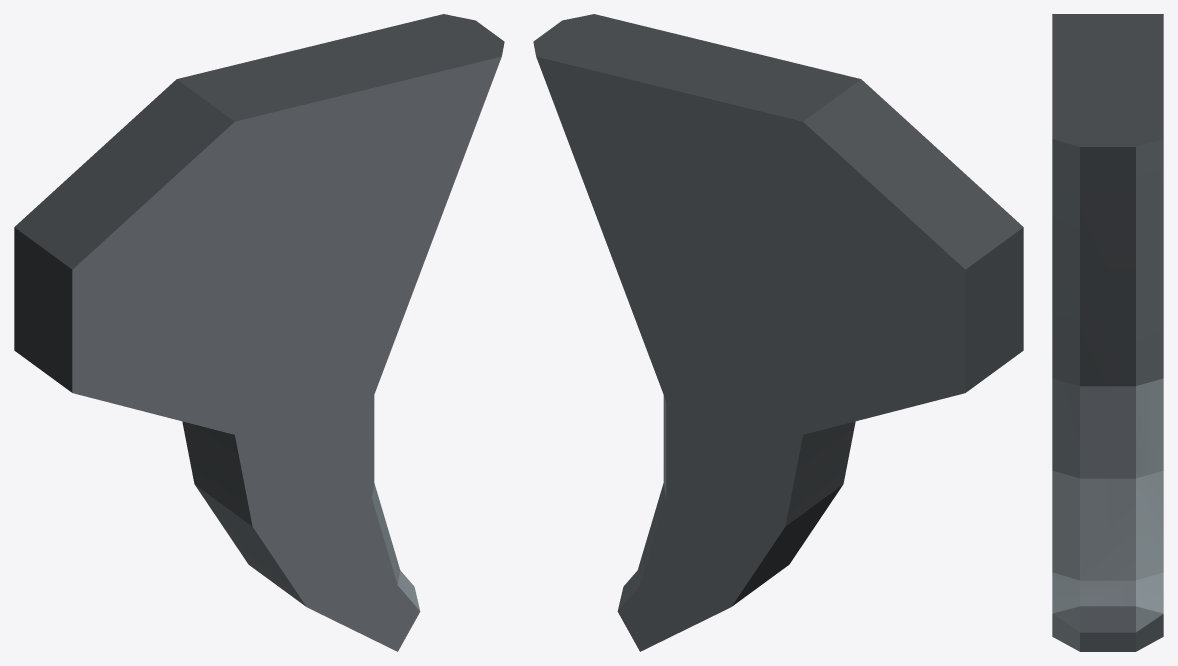
File: k-trigger-01.glb
The picture shows the model from 3 angles, left to right: view 1: azimuth 30°, elevation 25°; view 2: azimuth 150°, elevation 25°; view 3: azimuth 270°, elevation 25°; orthographic projection. The views are drawn at different scales.
Visible parts, largest first — view 1: kit; view 2: kit; view 3: kit.
Part boxes in pixels (x1=…): kit: x1=14, y1=14, x2=504, y2=651; kit: x1=533, y1=14, x2=1023, y2=651; kit: x1=1052, y1=14, x2=1163, y2=651.
Size of the model in its own units: 0.028 by 0.0347 by 0.00632.
1 material, 1 textured.
